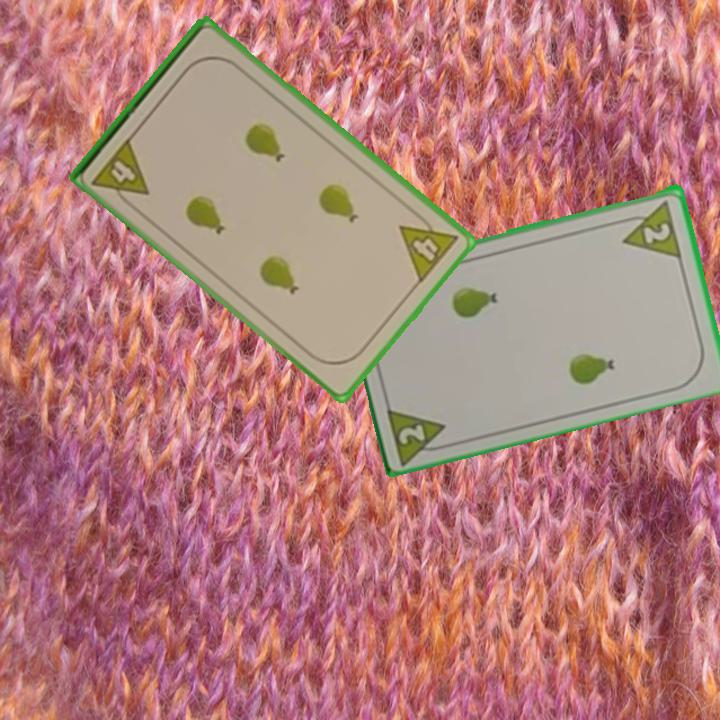2p: (383, 401, 455, 465), (615, 196, 685, 260)
4p: (395, 206, 461, 286), (88, 134, 154, 212)
